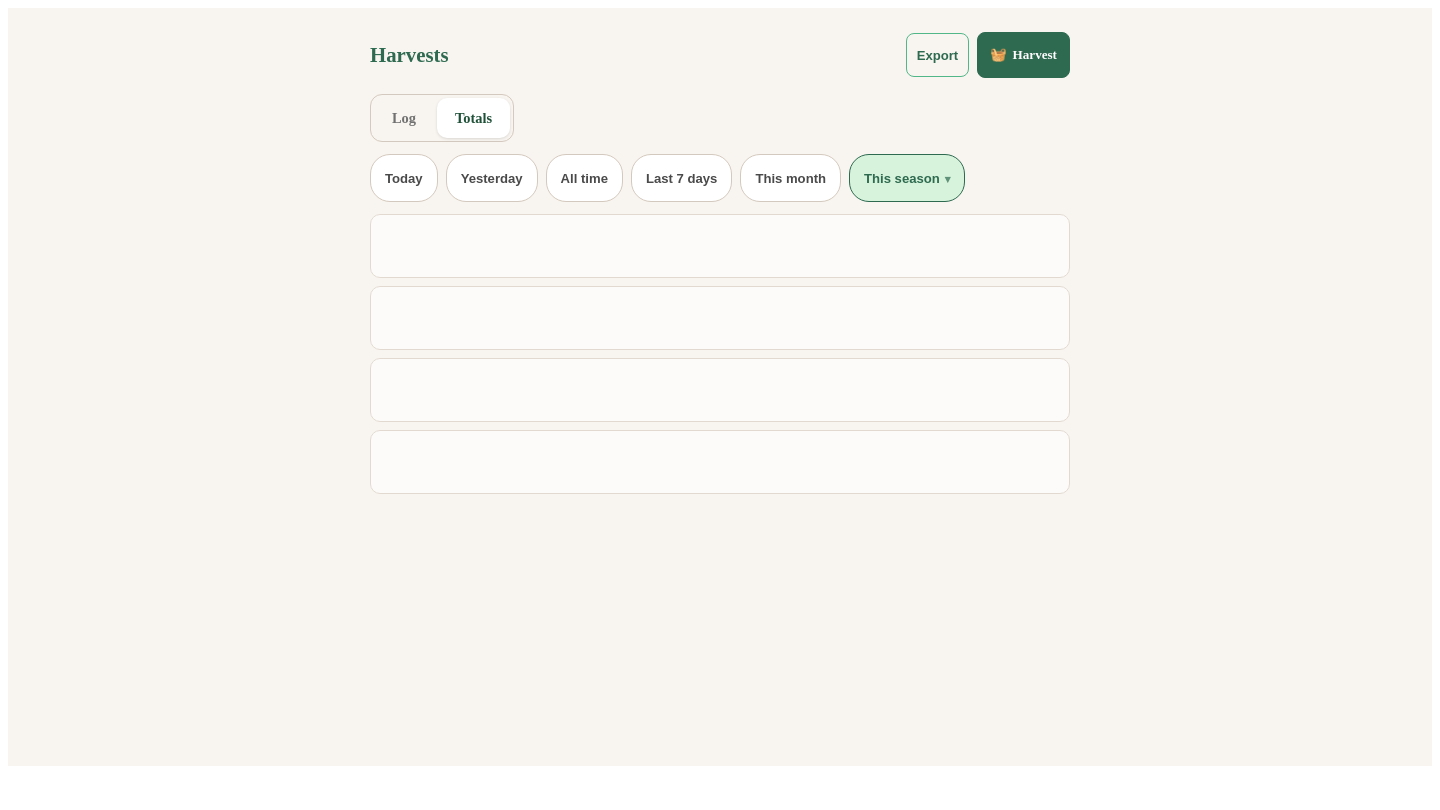
Test: Harvests — PROJHIDE › hides the Project filter pill and keeps the Crop filter
The image size is (1440, 810).
What coordinates should you click on to do the following:
click the radio button labelled "Log"
I would click on:
 (404, 118)
Its box is [374,98,434,138].
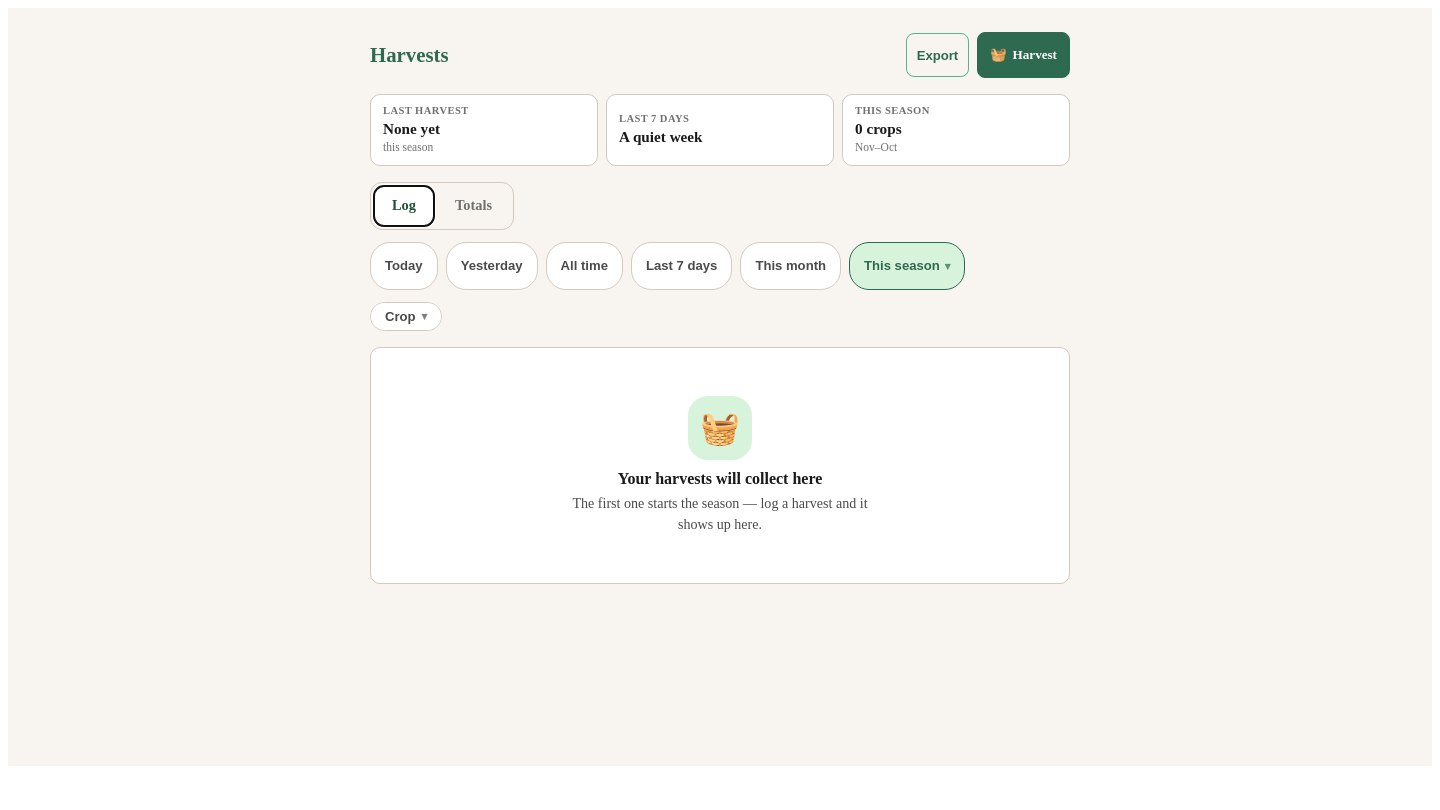
Result: the button with aria-label "filter by crop" is shown at [371,303,441,330]
